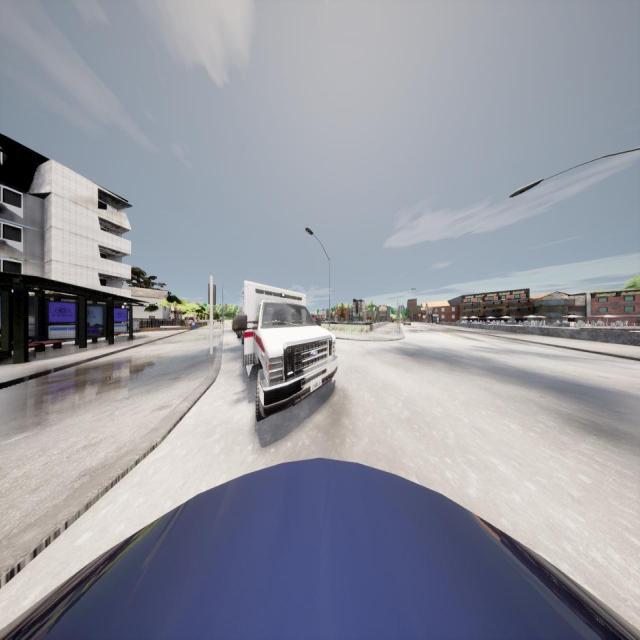Vehicle: (0, 458, 640, 640), (233, 280, 337, 420), (403, 319, 411, 325)
traffic_light: (208, 283, 216, 305), (398, 306, 402, 313)
